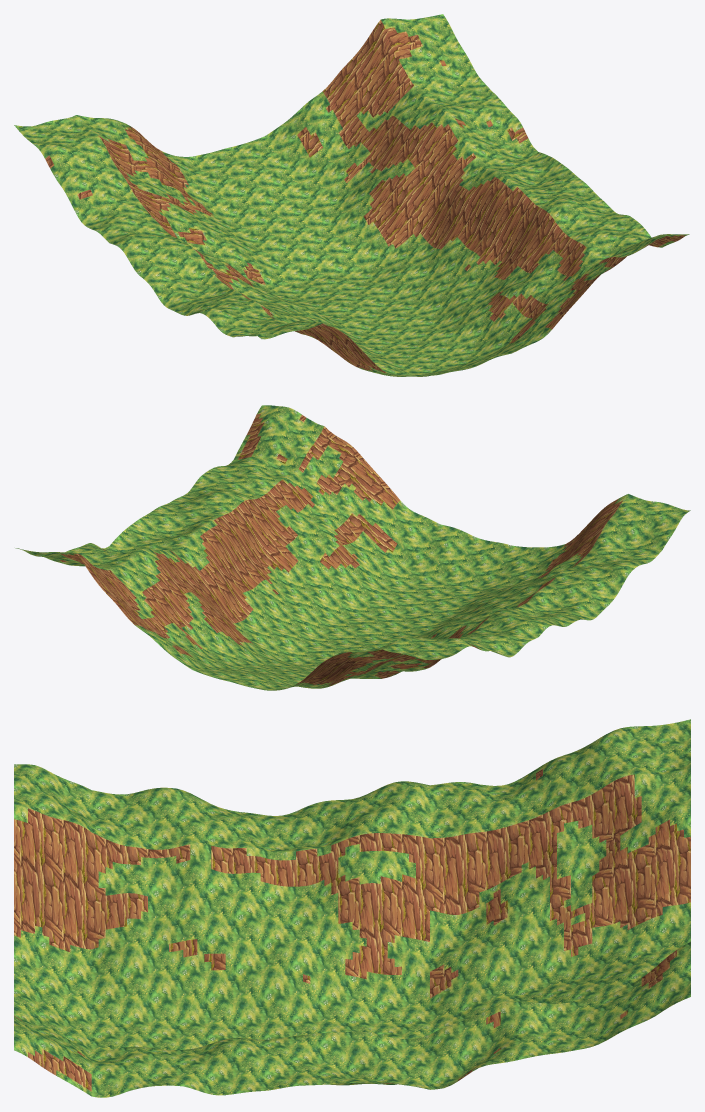
The model's file is stage01-valley.glb.
3 views of the same model, one above another, from view 1: azimuth 30°, elevation 25°; view 2: azimuth 150°, elevation 25°; view 3: azimuth 270°, elevation 25° (orthographic). The views are drawn at different scales.
Visible parts, largest first — view 1: FairyValleyOrganicMesh; view 2: FairyValleyOrganicMesh; view 3: FairyValleyOrganicMesh.
Boxes of the visible parts, x1=… form: FairyValleyOrganicMesh: x1=14, y1=14, x2=689, y2=376; FairyValleyOrganicMesh: x1=15, y1=405, x2=690, y2=690; FairyValleyOrganicMesh: x1=14, y1=719, x2=690, y2=1097.
Bounding box in the file's own units: 140 × 48.61 × 140.
Materials: 2 (2 with a texture image).
